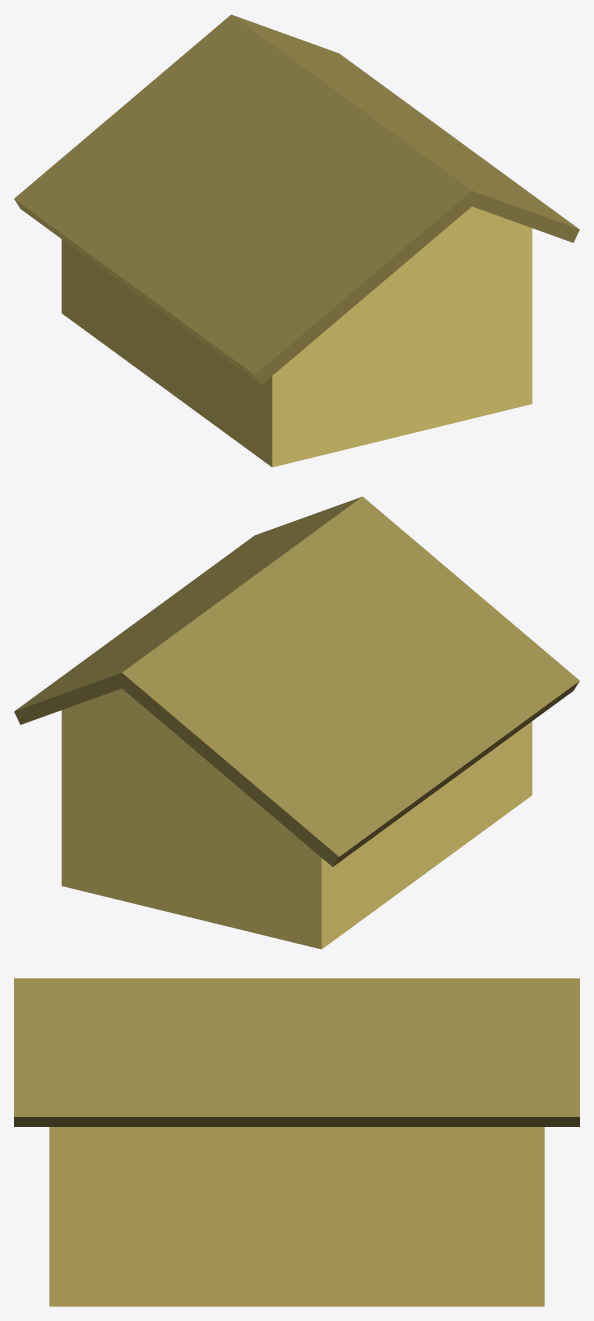
File: result.glb
3 renders of one model, top to bottom at view 1: azimuth 30°, elevation 25°; view 2: azimuth 150°, elevation 25°; view 3: azimuth 270°, elevation 25°, orthographic. The views are drawn at different scales.
Visible parts, largest first — view 1: c86c3f0f-2495-48d2-9895-1d0f2c1e54cc__undefined (×2), f0cdebd1-ac77-4040-be62-4d878cbccbdb__undefined; view 2: c86c3f0f-2495-48d2-9895-1d0f2c1e54cc__undefined (×2), f0cdebd1-ac77-4040-be62-4d878cbccbdb__undefined; view 3: f0cdebd1-ac77-4040-be62-4d878cbccbdb__undefined, c86c3f0f-2495-48d2-9895-1d0f2c1e54cc__undefined.
Boxes of the visible parts, x1,y1,x2,y2 form: c86c3f0f-2495-48d2-9895-1d0f2c1e54cc__undefined (×2): [14, 14, 579, 384]; f0cdebd1-ac77-4040-be62-4d878cbccbdb__undefined: [61, 206, 532, 467]; c86c3f0f-2495-48d2-9895-1d0f2c1e54cc__undefined (×2): [14, 496, 579, 866]; f0cdebd1-ac77-4040-be62-4d878cbccbdb__undefined: [61, 688, 532, 949]; f0cdebd1-ac77-4040-be62-4d878cbccbdb__undefined: [49, 1127, 544, 1306]; c86c3f0f-2495-48d2-9895-1d0f2c1e54cc__undefined: [14, 978, 579, 1126].
Size of the model in its own units: 624 by 445 by 800.
